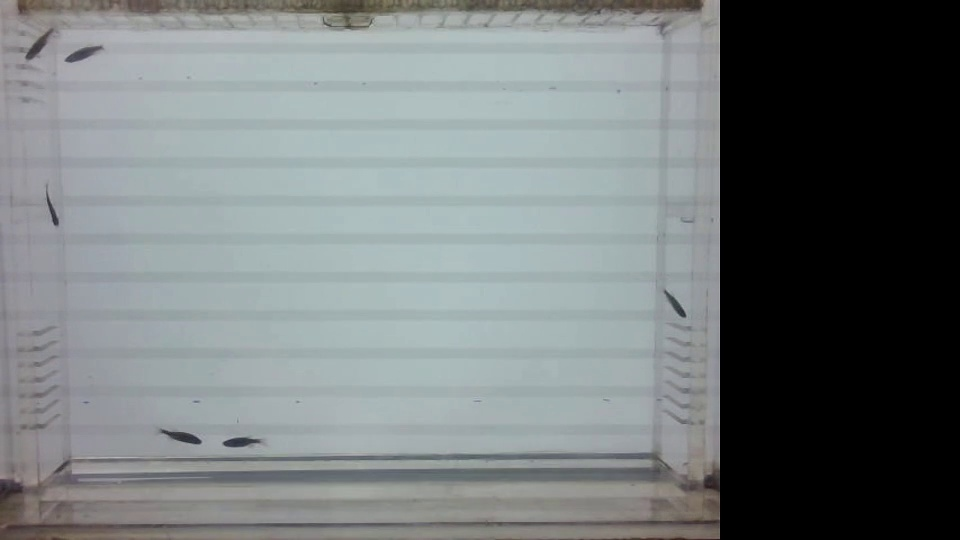fish: (21, 25, 60, 68), (149, 420, 212, 446), (212, 424, 265, 453), (38, 180, 66, 232), (58, 44, 108, 68), (652, 285, 688, 318)
